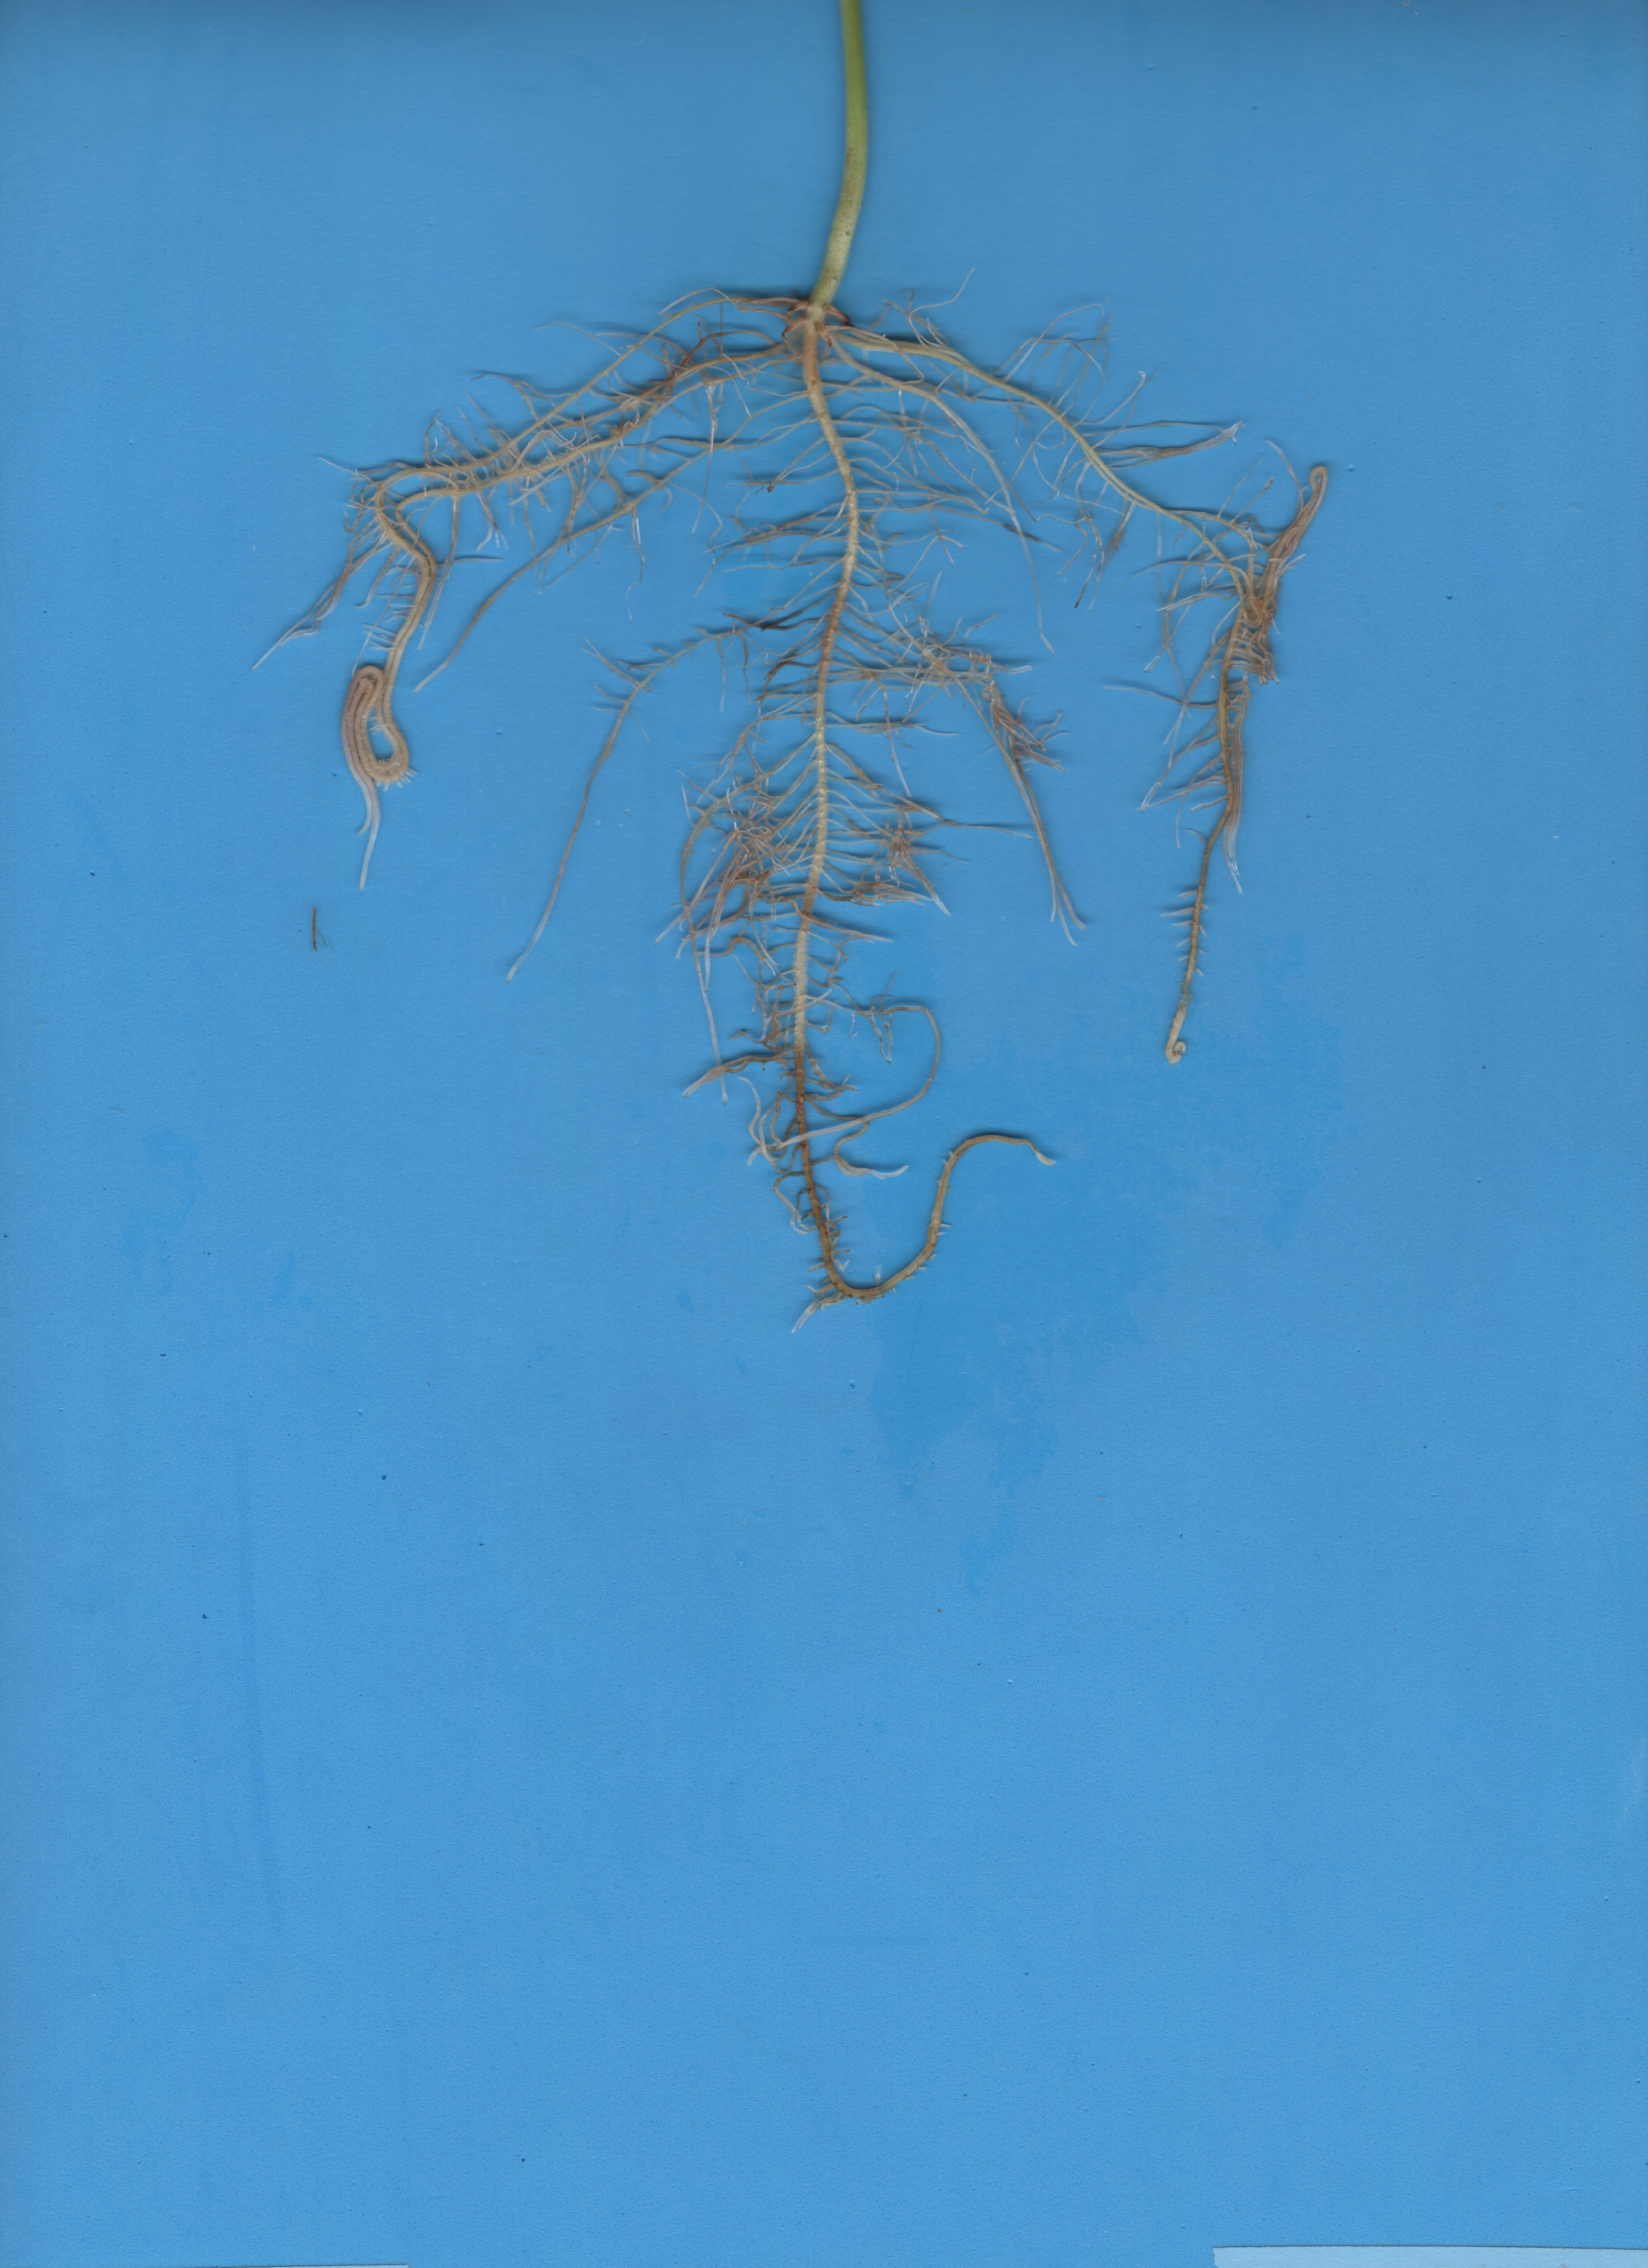CROWNGOOD: (768, 0, 942, 291)
ROOTGOOD: (241, 271, 1477, 1359)
